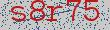5: (82, 1, 103, 25)
7: (64, 1, 82, 29)
8: (28, 1, 47, 26)
r: (46, 2, 67, 26)
s: (8, 1, 27, 25)
